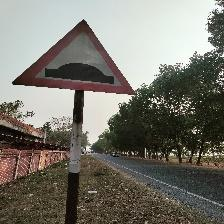Speed-breaker: (12, 19, 137, 94)
